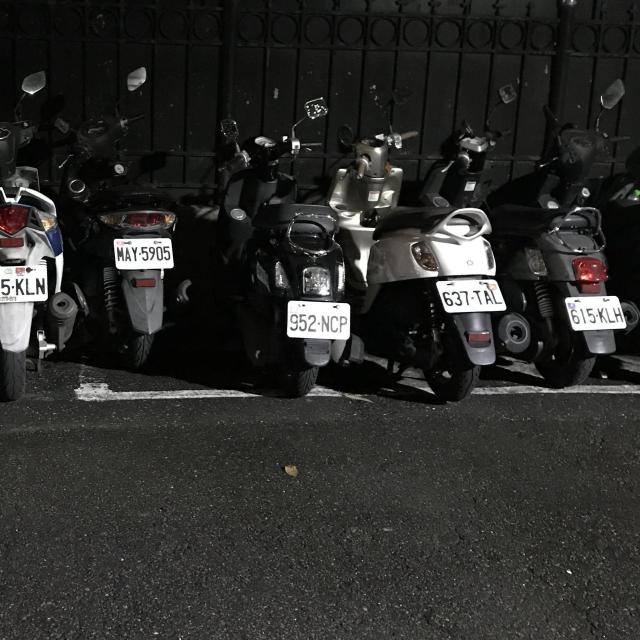W: (283, 296, 357, 342), (432, 274, 507, 315), (561, 292, 627, 332), (110, 234, 177, 272), (0, 262, 51, 304)
